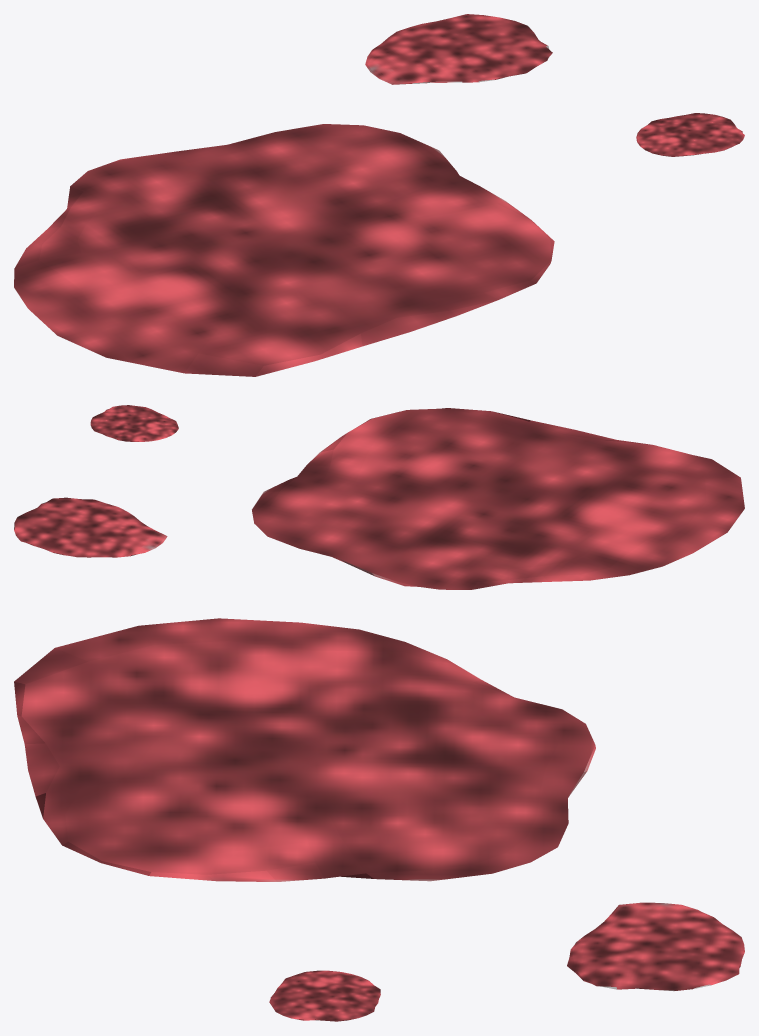
Rendered from Goo.fbx.
3 views of the same model, one above another, from view 1: azimuth 30°, elevation 25°; view 2: azimuth 150°, elevation 25°; view 3: azimuth 270°, elevation 25° (orthographic). The views are drawn at different scales.
Parts seen in each view (by area): view 1: Sphere, Sphere.002, Sphere.001; view 2: Sphere, Sphere.002, Sphere.001; view 3: Sphere, Sphere.002, Sphere.001.
Part boxes in pixels (x1=…): Sphere: x1=14, y1=124, x2=554, y2=376; Sphere.002: x1=365, y1=14, x2=552, y2=84; Sphere.001: x1=636, y1=113, x2=744, y2=156; Sphere: x1=252, y1=408, x2=744, y2=589; Sphere.002: x1=14, y1=497, x2=167, y2=557; Sphere.001: x1=90, y1=405, x2=178, y2=441; Sphere: x1=14, y1=618, x2=595, y2=881; Sphere.002: x1=567, y1=902, x2=744, y2=991; Sphere.001: x1=269, y1=970, x2=380, y2=1021.
Bounding box in the file's own units: 381 × 6.39 × 291.
Materials: 3 (3 with a texture image).
